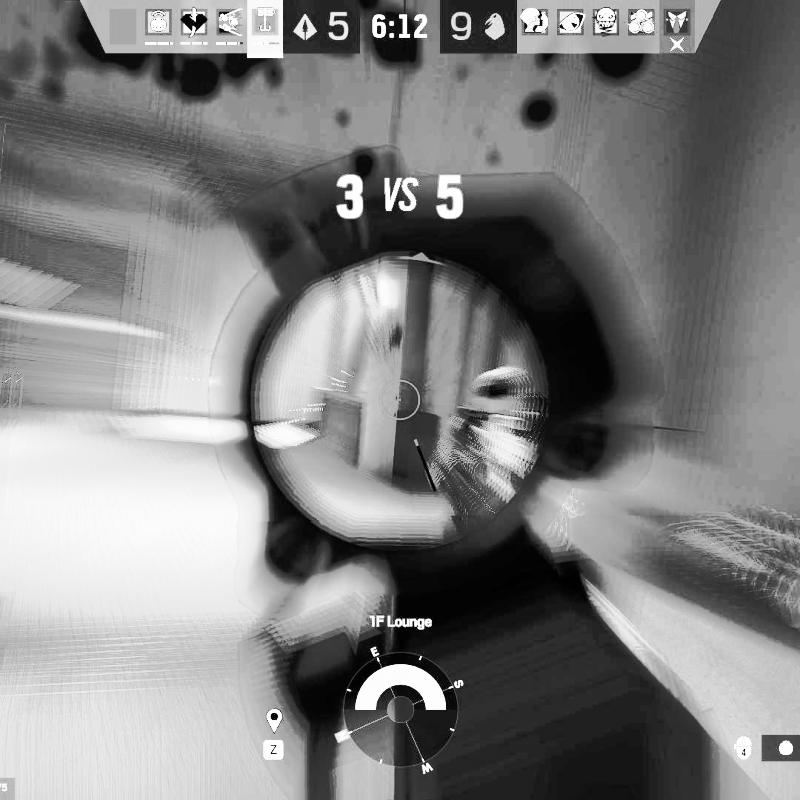Character: (428, 365, 617, 607)
Head: (467, 365, 537, 436)
